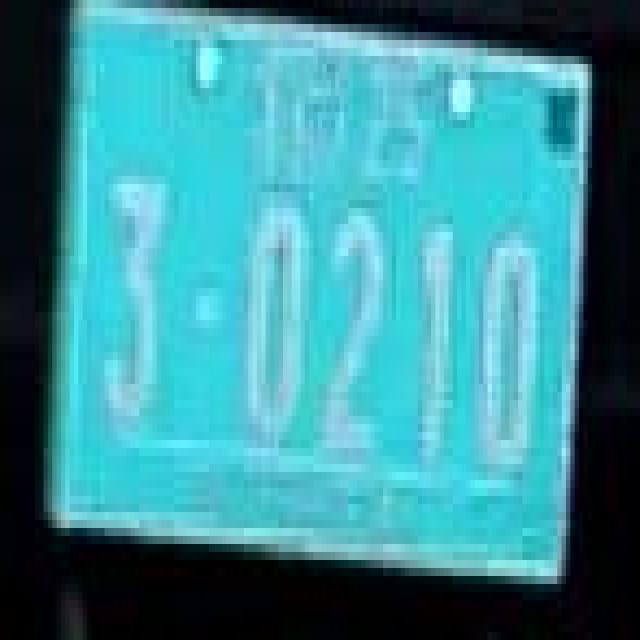State: (253, 48, 358, 196)
